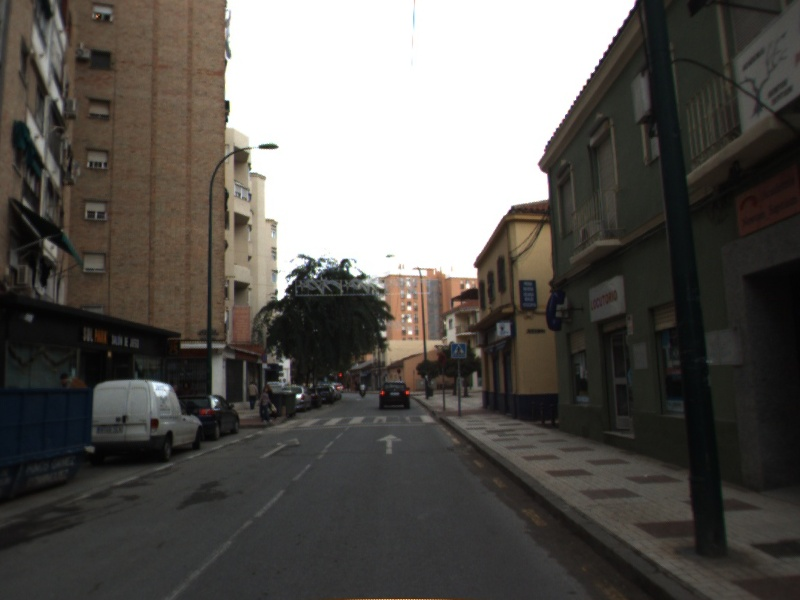STRAIGHT: (257, 436, 302, 460), (374, 432, 405, 456)
